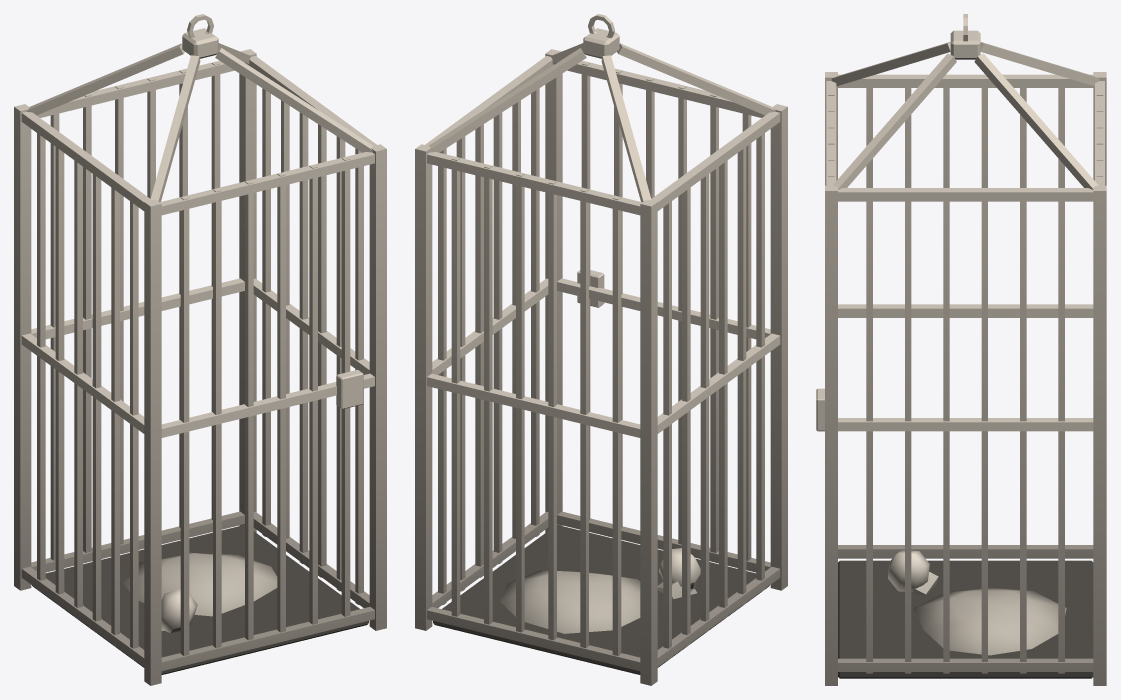
The model's file is SM_VKI_Prop_Cage.fbx.
3 renders of one model, left to right at view 1: azimuth 30°, elevation 25°; view 2: azimuth 150°, elevation 25°; view 3: azimuth 270°, elevation 25°, orthographic. The views are drawn at different scales.
Visible parts, largest first — view 1: SM_VKI_Prop_Cage.001; view 2: SM_VKI_Prop_Cage.001; view 3: SM_VKI_Prop_Cage.001.
Boxes of the visible parts, bbox=[...] form: SM_VKI_Prop_Cage.001: bbox=[14, 14, 386, 685]; SM_VKI_Prop_Cage.001: bbox=[415, 14, 787, 685]; SM_VKI_Prop_Cage.001: bbox=[816, 14, 1106, 685].
Size of the model in its own units: 0.944 by 2.27 by 0.972.
